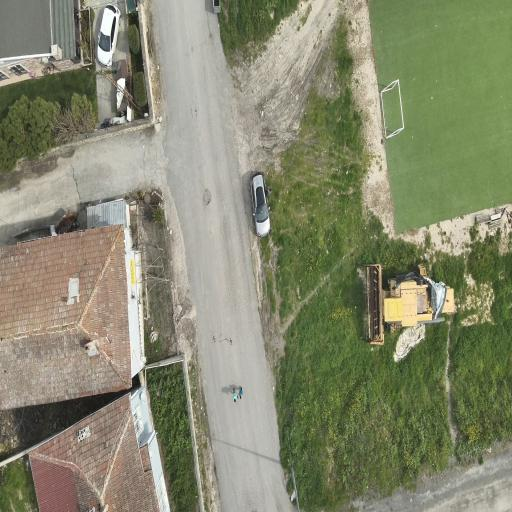car: (97, 5, 120, 67), (251, 172, 270, 237)
harvester: (365, 265, 454, 344)
person: (234, 388, 237, 402), (239, 387, 242, 399), (267, 188, 271, 195)
